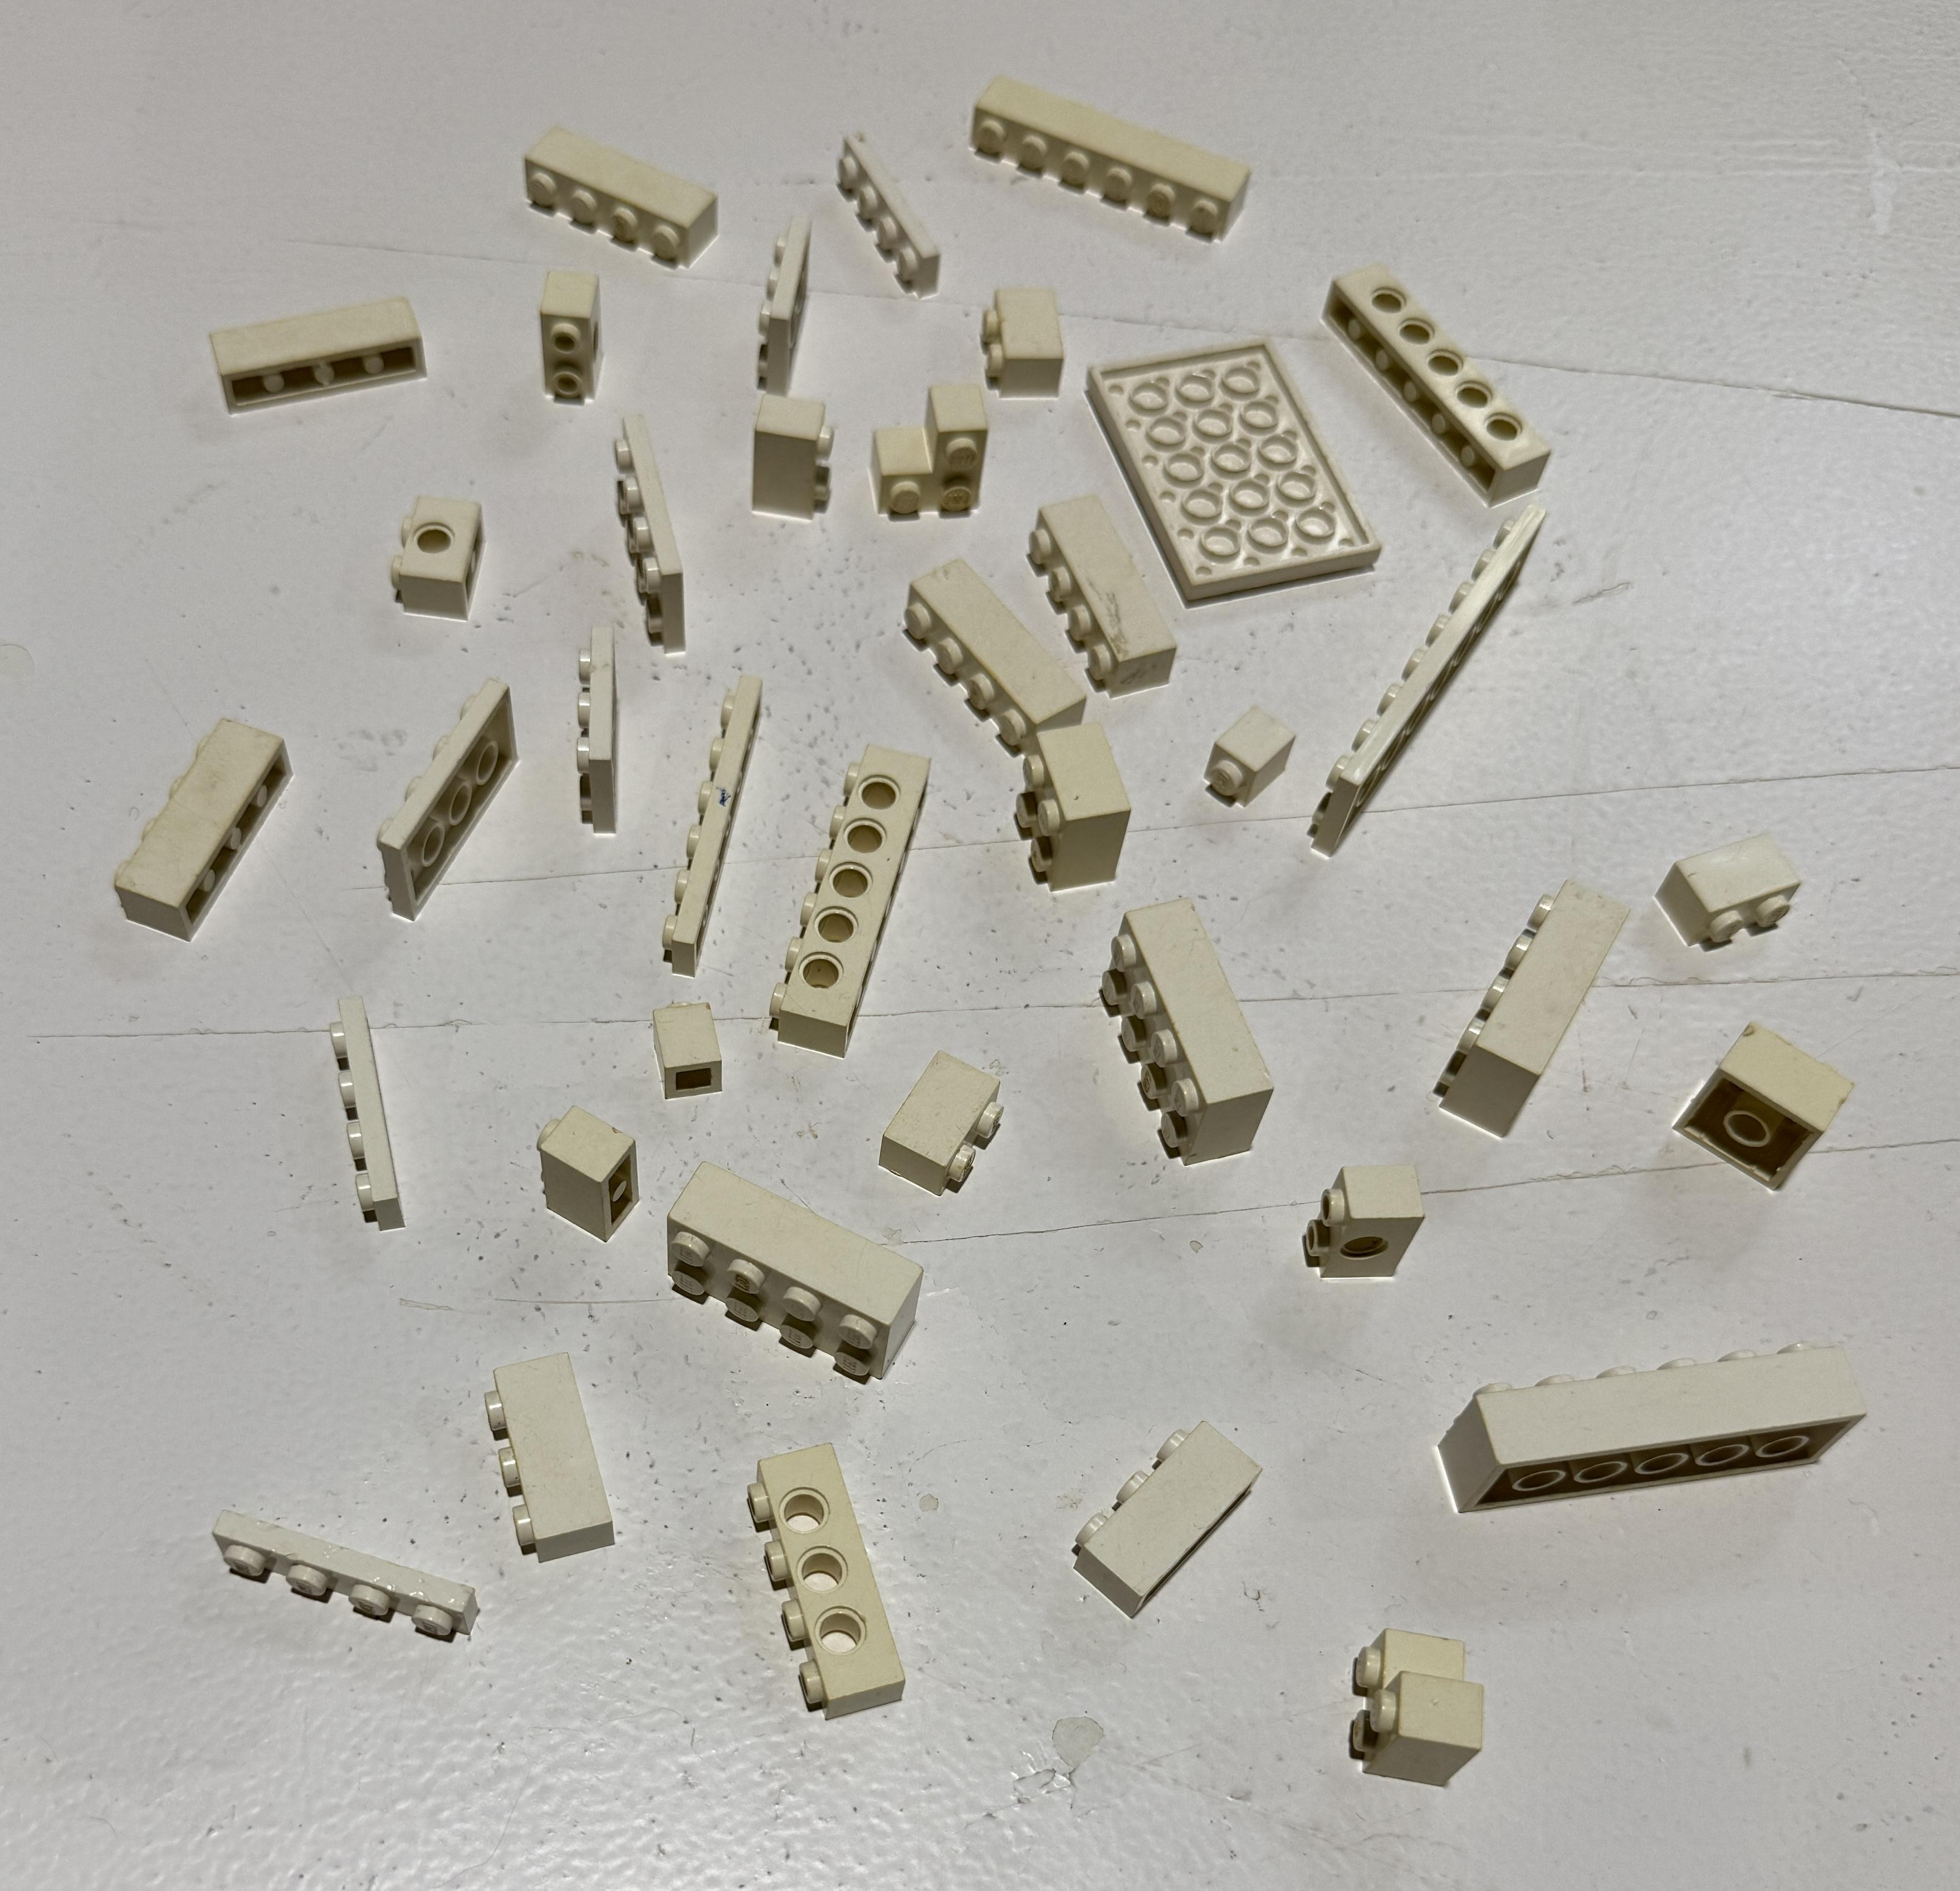brick_1x1: (1186, 689, 1314, 833), (627, 978, 737, 1116)
brick_1x2: (857, 1025, 1031, 1225), (1640, 794, 1832, 969), (499, 1085, 667, 1272), (1300, 1137, 1449, 1324), (712, 369, 861, 548), (376, 465, 516, 640), (523, 243, 644, 416), (961, 266, 1083, 413)
brick_1x3: (1046, 1385, 1286, 1623), (476, 1338, 637, 1573)
brick_1x4: (733, 1429, 947, 1763), (187, 252, 460, 448), (109, 700, 312, 959), (1019, 460, 1204, 724), (889, 539, 1099, 771), (499, 107, 721, 271)
brick_2x2: (1666, 1006, 1859, 1228), (992, 700, 1155, 913)
brick_2x4: (646, 1146, 956, 1415), (1088, 882, 1285, 1193)
